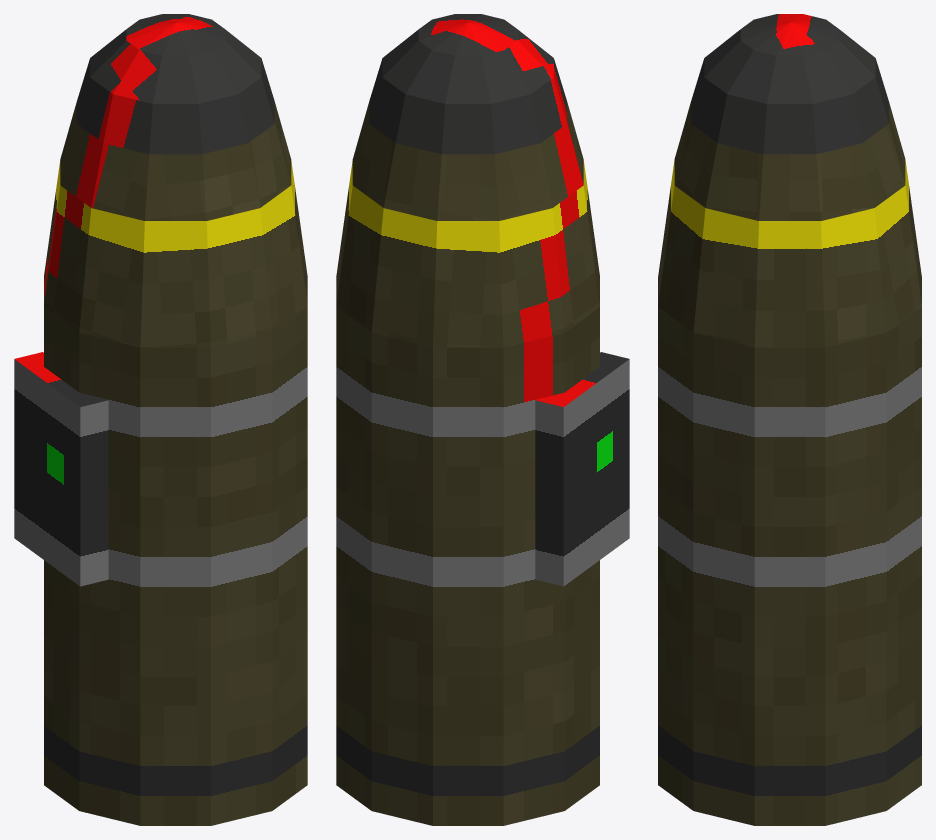
The model's file is IED.obj.
3 renders of one model, left to right at view 1: azimuth 30°, elevation 25°; view 2: azimuth 150°, elevation 25°; view 3: azimuth 270°, elevation 25°, orthographic.
Parts seen in each view (by area): view 1: cylinder, sphere, mesh; view 2: cylinder, sphere, mesh; view 3: cylinder, sphere.
Part boxes in pixels (bbox=[...]): cylinder: bbox=[44, 101, 307, 825]; sphere: bbox=[77, 14, 274, 154]; mesh: bbox=[14, 352, 108, 586]; cylinder: bbox=[336, 101, 599, 825]; sphere: bbox=[369, 14, 566, 154]; mesh: bbox=[535, 352, 629, 586]; cylinder: bbox=[658, 102, 921, 825]; sphere: bbox=[691, 14, 888, 154].
Bounding box in the file's own units: 0.5312 × 1.56 × 0.5.
1 material, 1 textured.
